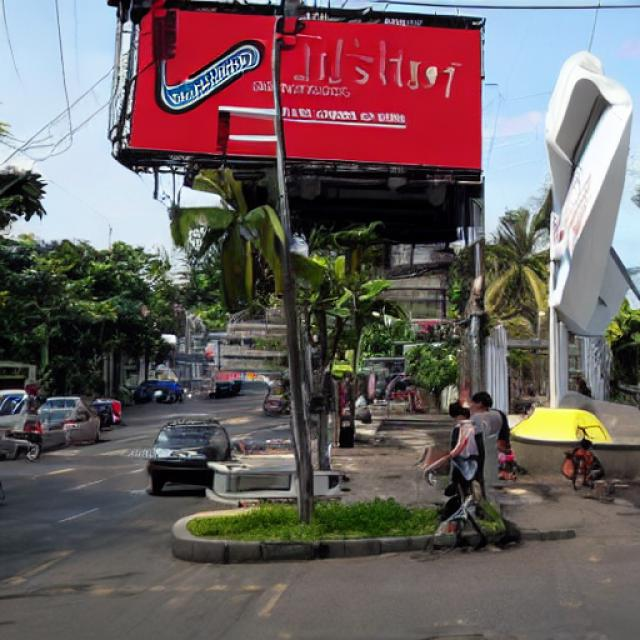Billboard: (112, 0, 483, 188)
